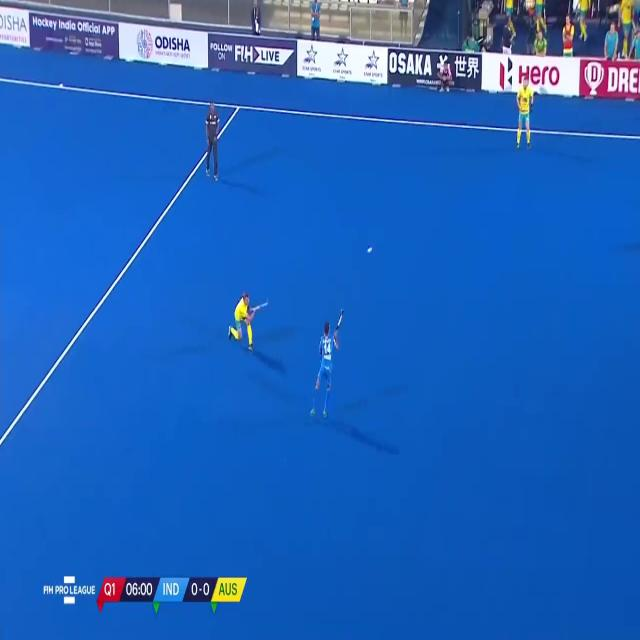ball: (361, 242, 376, 256)
